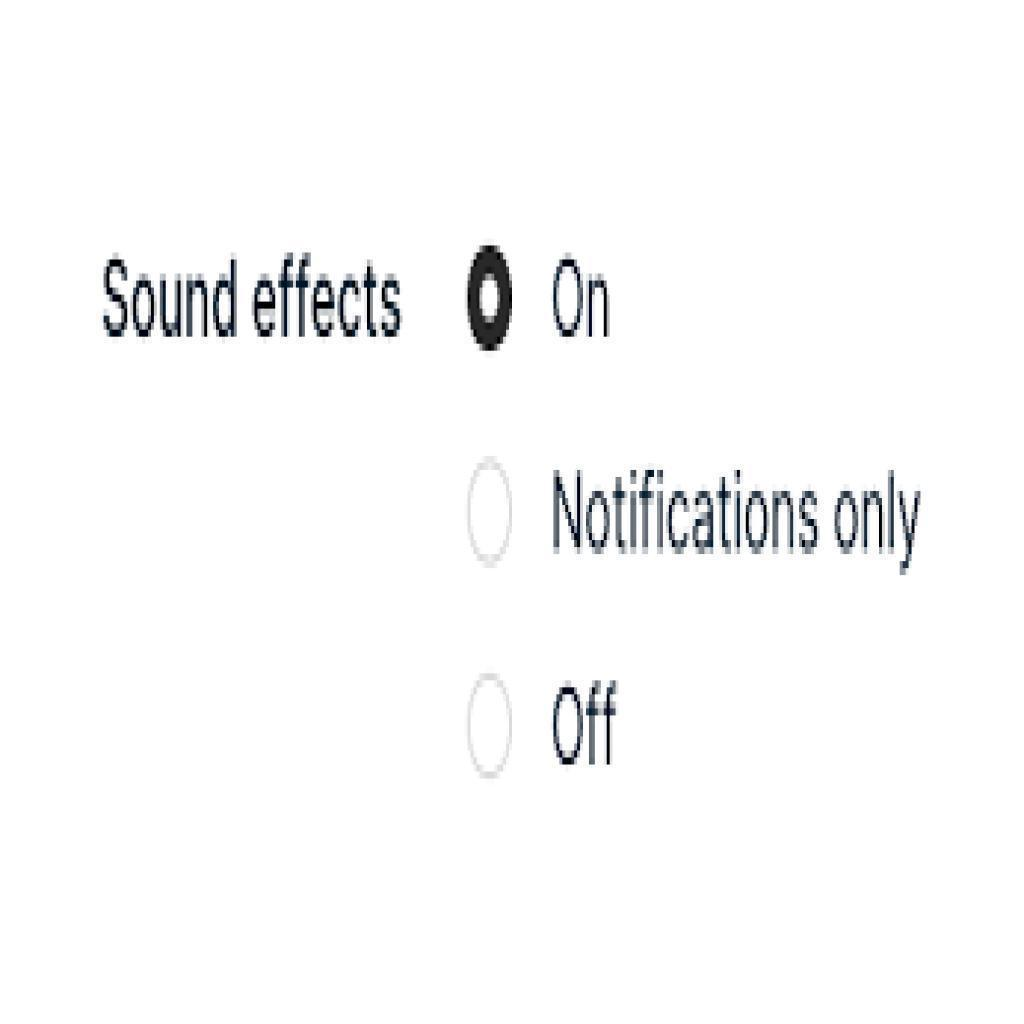label: (539, 460, 926, 573), (94, 250, 412, 346), (542, 676, 630, 774), (544, 254, 618, 342)
radio: (465, 458, 518, 582), (460, 670, 515, 788), (468, 245, 514, 362)
